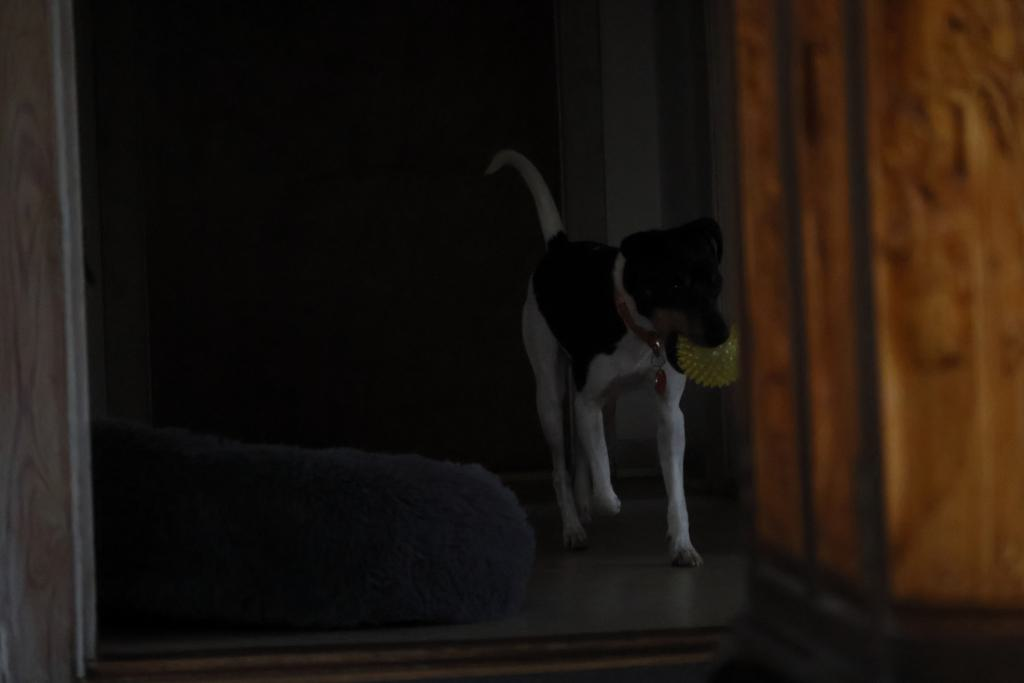Dog: (465, 140, 762, 581)
